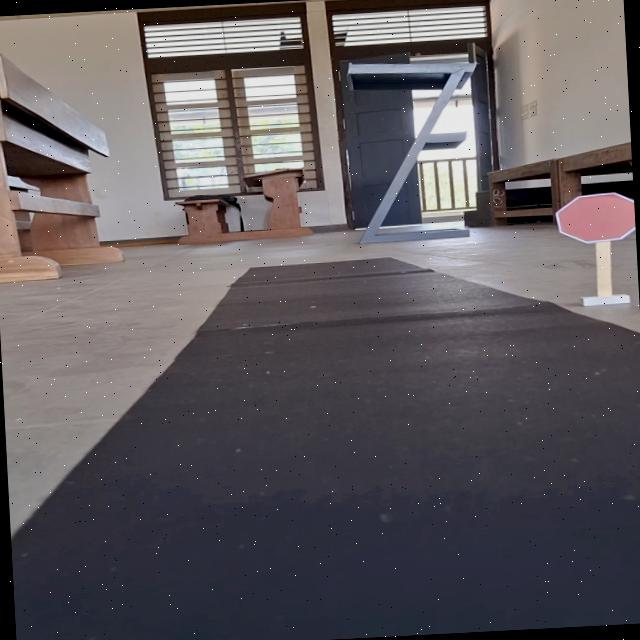Stop: (548, 190, 636, 246)
